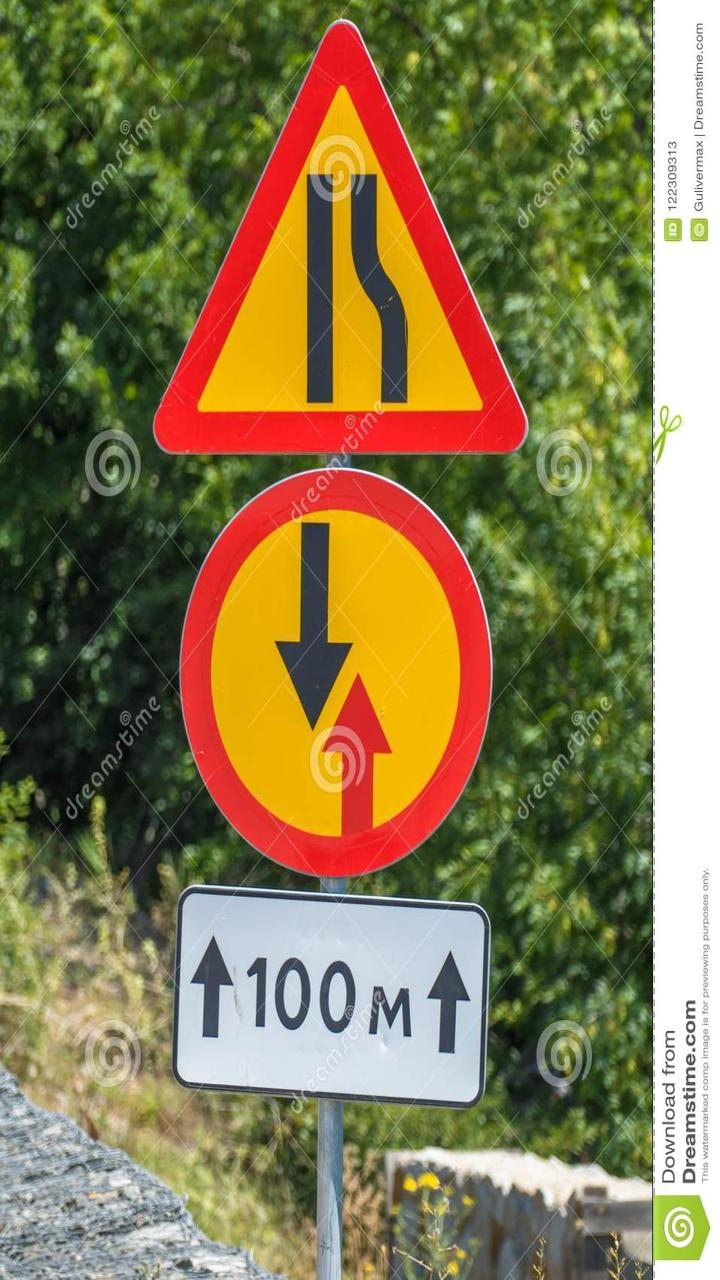Traffic sign: (130, 8, 566, 464), (165, 452, 510, 876), (164, 889, 516, 1137)
